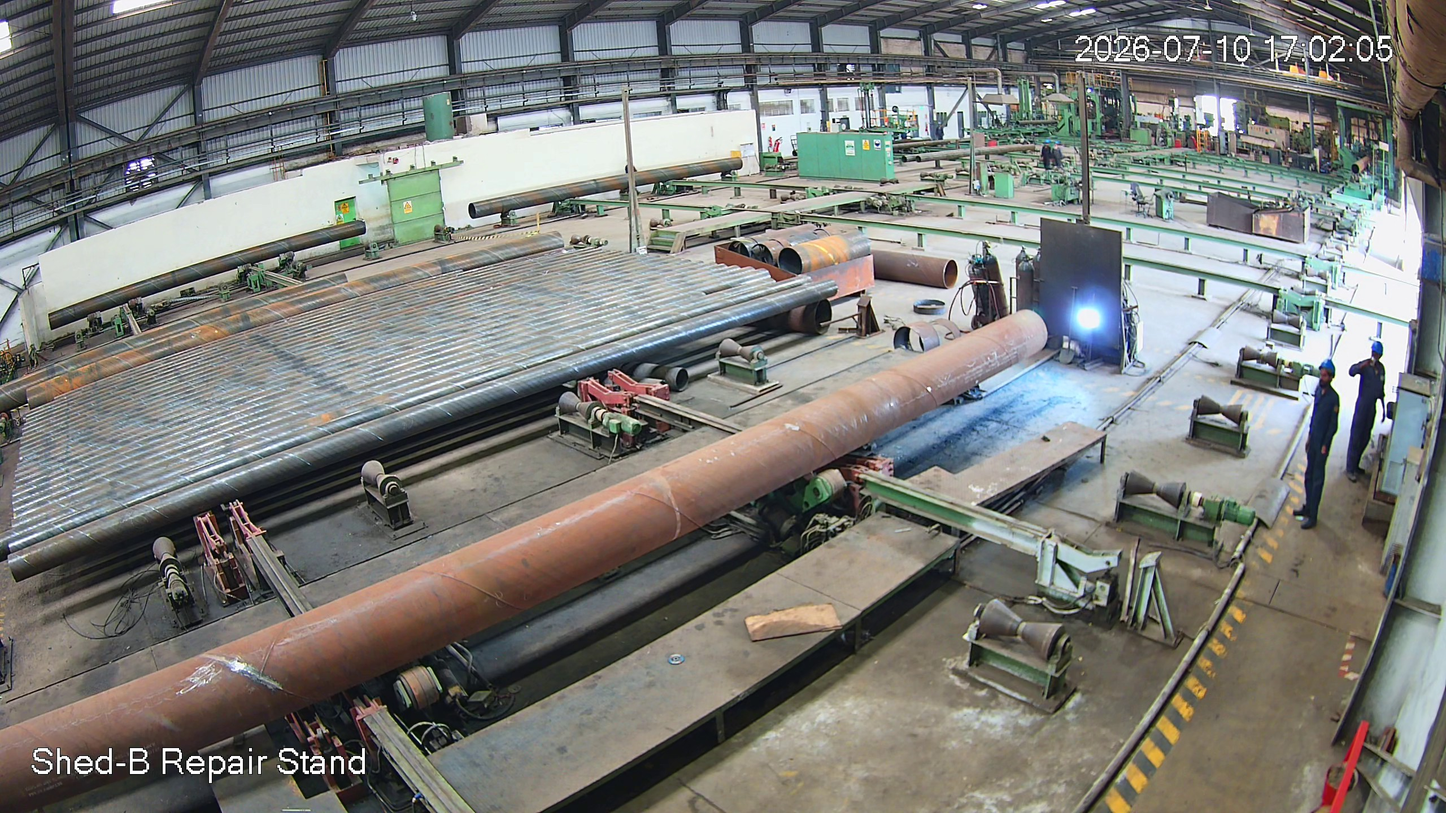Helmet: (1314, 356, 1341, 394), (1367, 338, 1390, 372)
Person: (1299, 358, 1343, 527), (1345, 341, 1389, 482)
